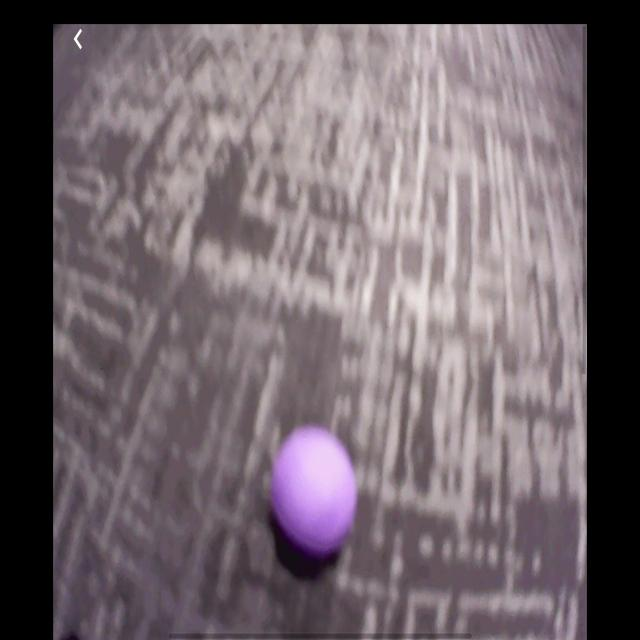ball: (270, 424, 359, 561)
